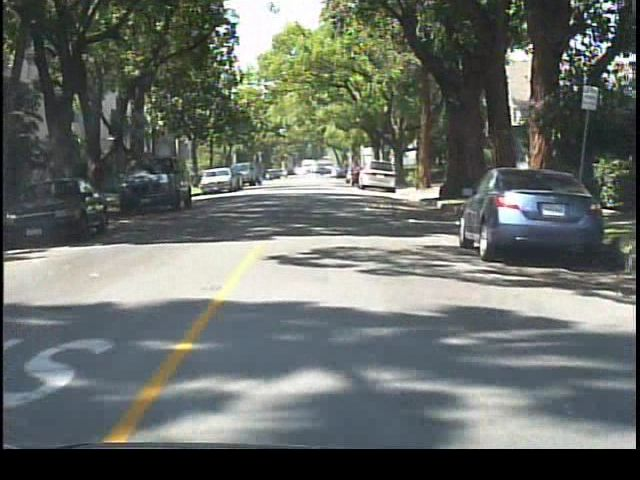car: (452, 162, 607, 266), (4, 169, 112, 249), (111, 156, 194, 209), (358, 156, 398, 192), (199, 168, 238, 194)
